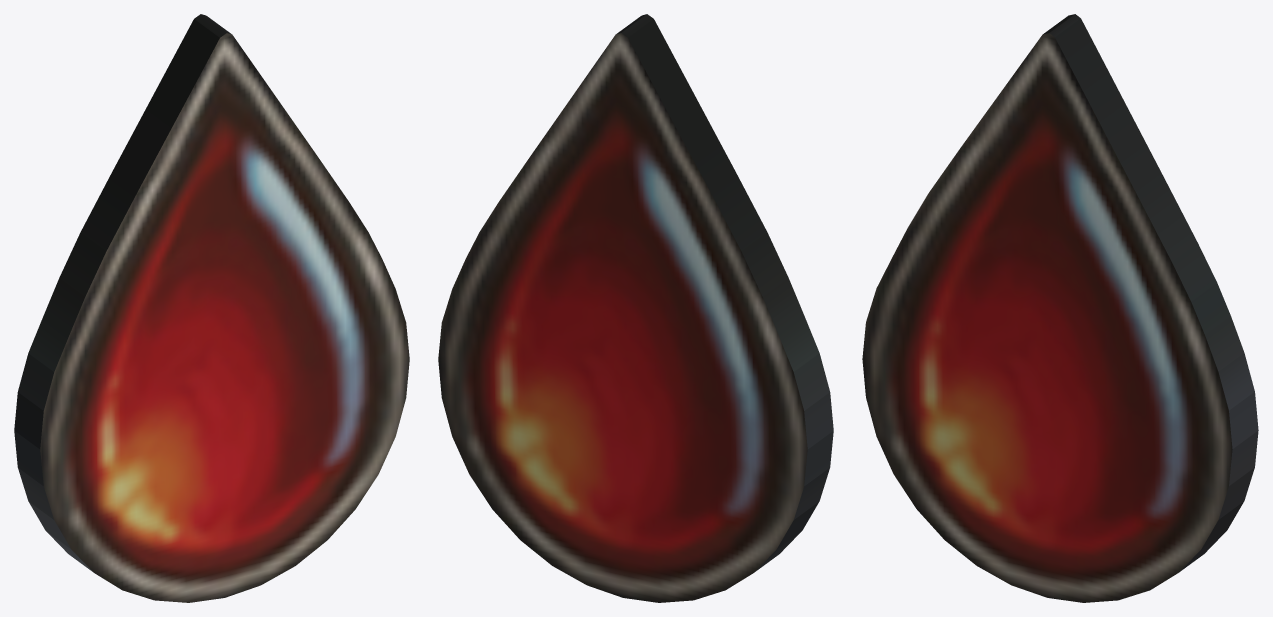
File: Health.glb
3 renders of one model, left to right at view 1: azimuth 30°, elevation 25°; view 2: azimuth 150°, elevation 25°; view 3: azimuth 330°, elevation 25°, orthographic.
Visible parts, largest first — view 1: Circle.002; view 2: Circle.002; view 3: Circle.002.
Boxes of the visible parts, box(x1,y1,x2,y2) form: Circle.002: box(14, 14, 409, 602); Circle.002: box(438, 14, 833, 602); Circle.002: box(862, 14, 1258, 602).
Size of the model in its own units: 0.7084 by 1.03 by 0.0864.
1 material, 1 textured.
